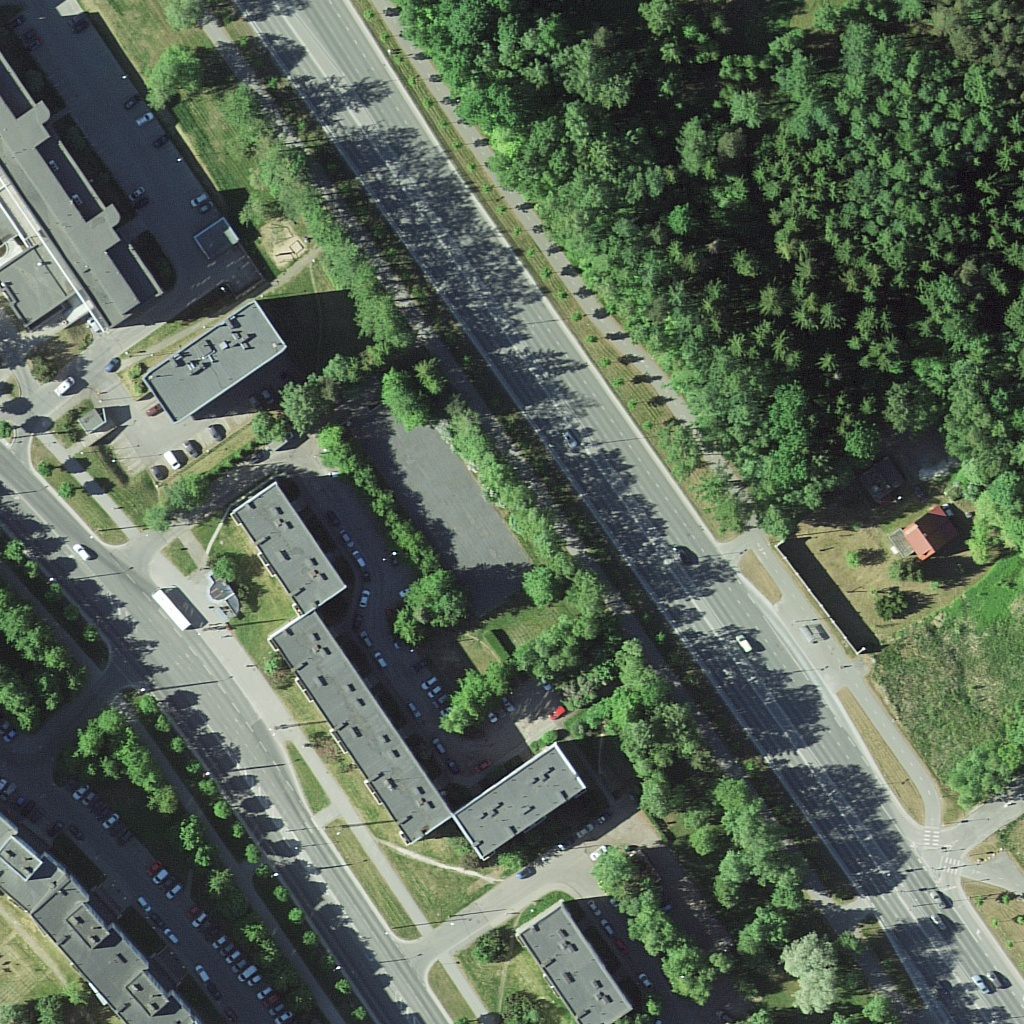building: (1, 59, 169, 331), (272, 608, 455, 842), (1, 815, 197, 1024), (147, 297, 288, 421), (449, 744, 591, 861), (234, 477, 351, 612), (518, 902, 634, 1019)
